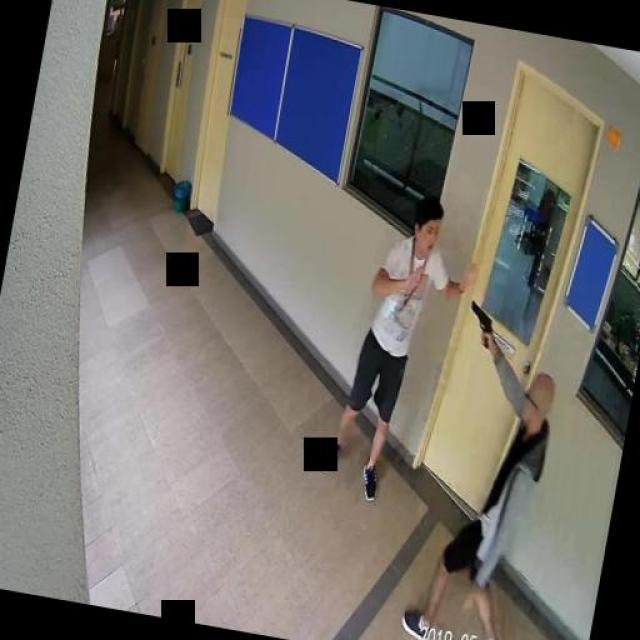gun: (462, 299, 497, 345)
